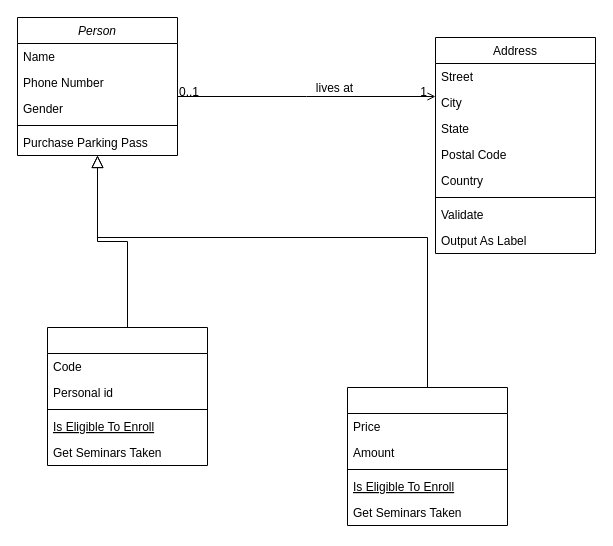
The diagram is 613 pixels wide and 546 high, and some of its shapes have lost their labels. Here are the shapes that lost their labels. From the top down, the box of each, then its label:
(46, 326, 208, 466): Student
(346, 386, 508, 526): Books
